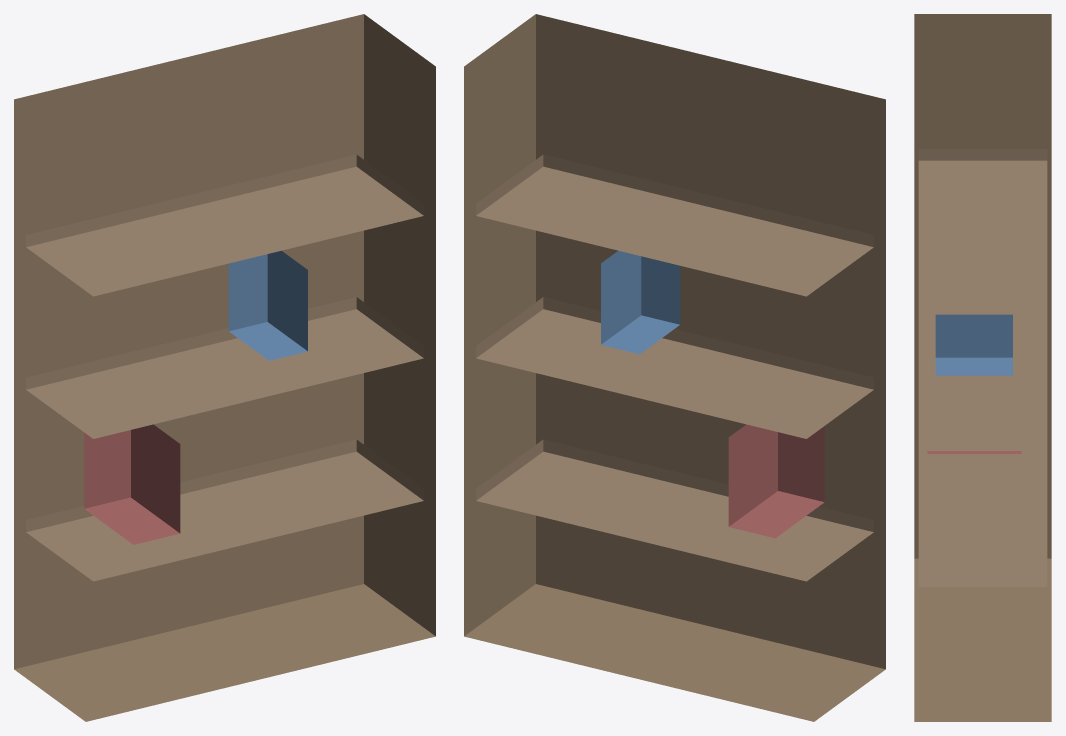
Rendered from bookshelf.gltf.
3 views of the same model, side by side, from view 1: azimuth 30°, elevation 25°; view 2: azimuth 150°, elevation 25°; view 3: azimuth 270°, elevation 25° (orthographic). The views are drawn at different scales.
Visible parts, largest first — view 1: bookshelf; view 2: bookshelf; view 3: bookshelf.
Part boxes in pixels (left/top/right/bottom): bookshelf: left=14, top=14, right=435, bottom=721; bookshelf: left=464, top=14, right=885, bottom=721; bookshelf: left=914, top=14, right=1051, bottom=721.
Bounding box in the file's own units: 0.9 × 1.4 × 0.32.
